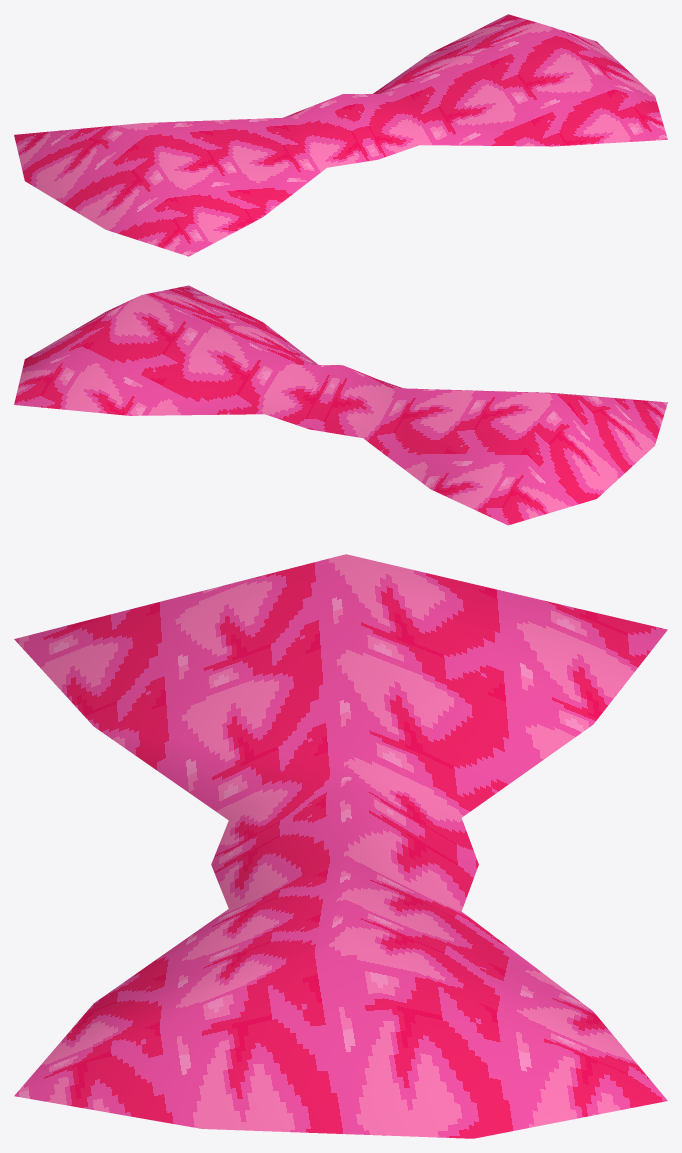
Rendered from 2936head086_c.gltf.
The picture shows the model from 3 angles, top to bottom: view 1: azimuth 30°, elevation 25°; view 2: azimuth 150°, elevation 25°; view 3: azimuth 270°, elevation 25°; orthographic projection. The views are drawn at different scales.
Visible parts, largest first — view 1: 2936head086_c; view 2: 2936head086_c; view 3: 2936head086_c.
Boxes of the visible parts, x1=… form: 2936head086_c: x1=14, y1=14, x2=667, y2=256; 2936head086_c: x1=14, y1=285, x2=667, y2=525; 2936head086_c: x1=14, y1=554, x2=667, y2=1138.
Bounding box in the file's own units: 0.8569 × 0.0891 × 0.4341.
1 material, 1 textured.
